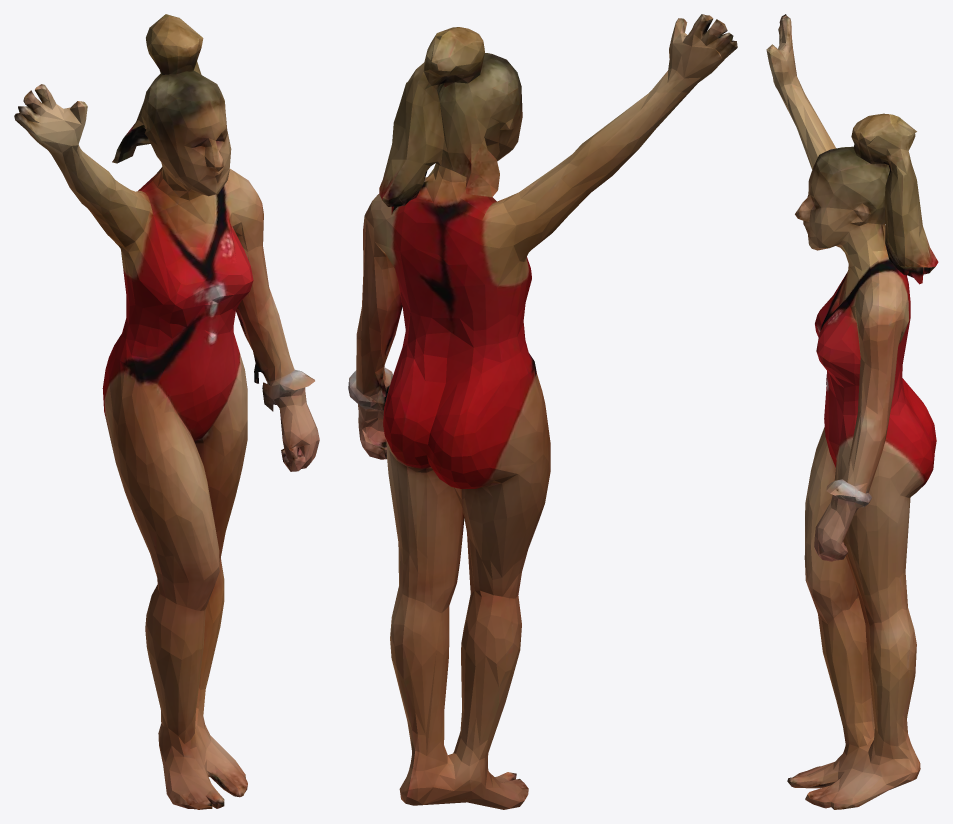
Rendered from human_f_src.glb.
3 views of the same model, side by side, from view 1: azimuth 30°, elevation 25°; view 2: azimuth 150°, elevation 25°; view 3: azimuth 270°, elevation 25° (orthographic). The views are drawn at different scales.
Parts seen in each view (by area): view 1: geometry_0; view 2: geometry_0; view 3: geometry_0.
Part boxes in pixels (x1,y1,x2,y2): geometry_0: [14, 14, 319, 809]; geometry_0: [348, 14, 737, 809]; geometry_0: [766, 14, 938, 809].
Bounding box in the file's own units: 0.4456 × 0.9993 × 0.2251.
Materials: 1 (1 with a texture image).
